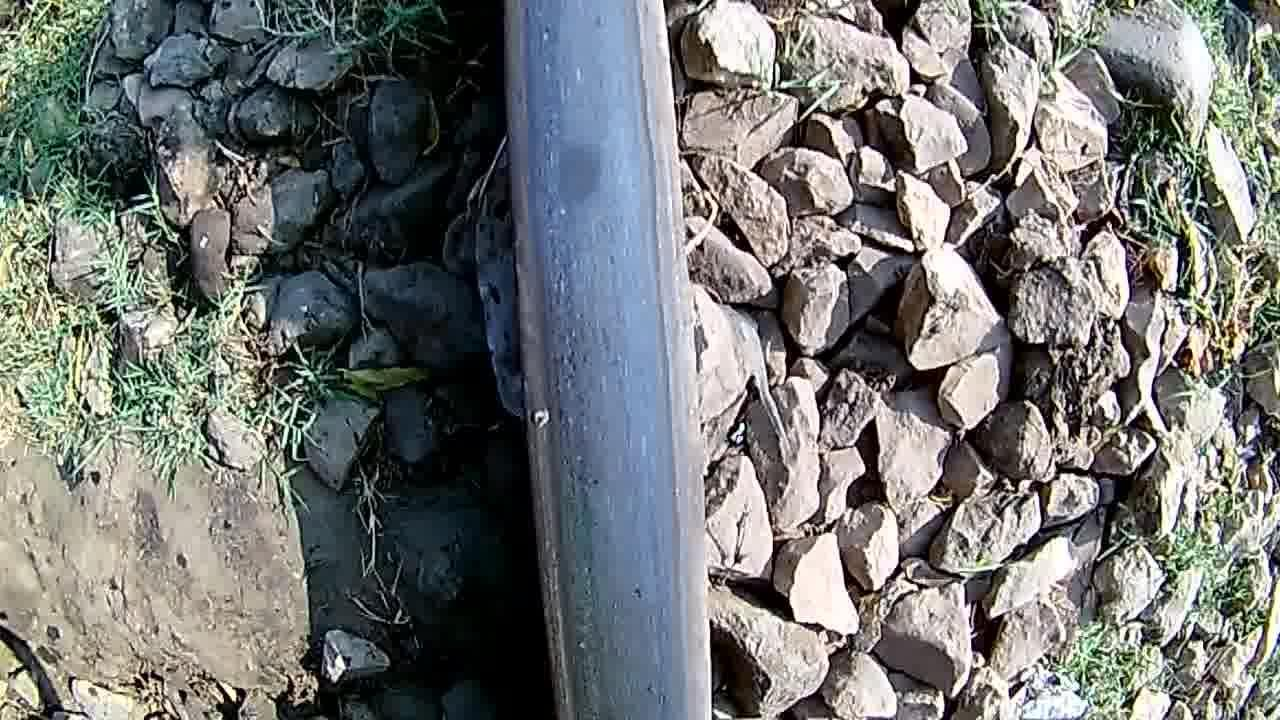crack: (503, 94, 684, 342)
